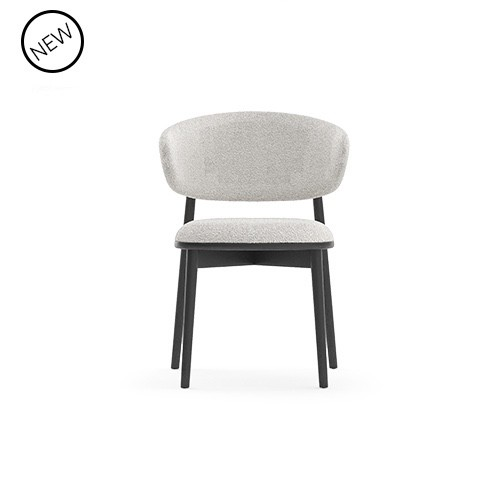chair: (160, 110, 352, 397)
